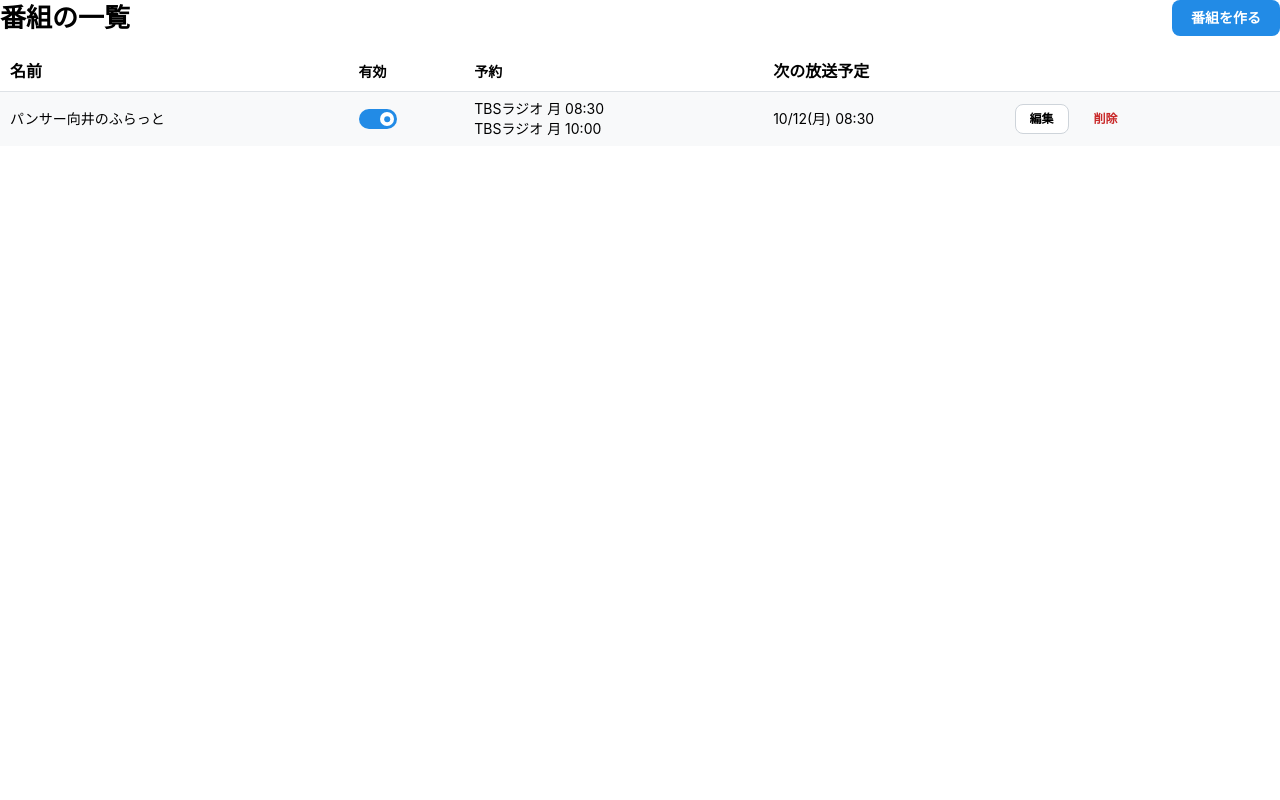
Test: ShowsPage › 確かめて無効にすると、消える件数をトーストで知らせる。0 件ならそう出す
Click the switch named "パンサー向井のふらっと を有効にする" at (378, 119), box [359, 109, 397, 129]
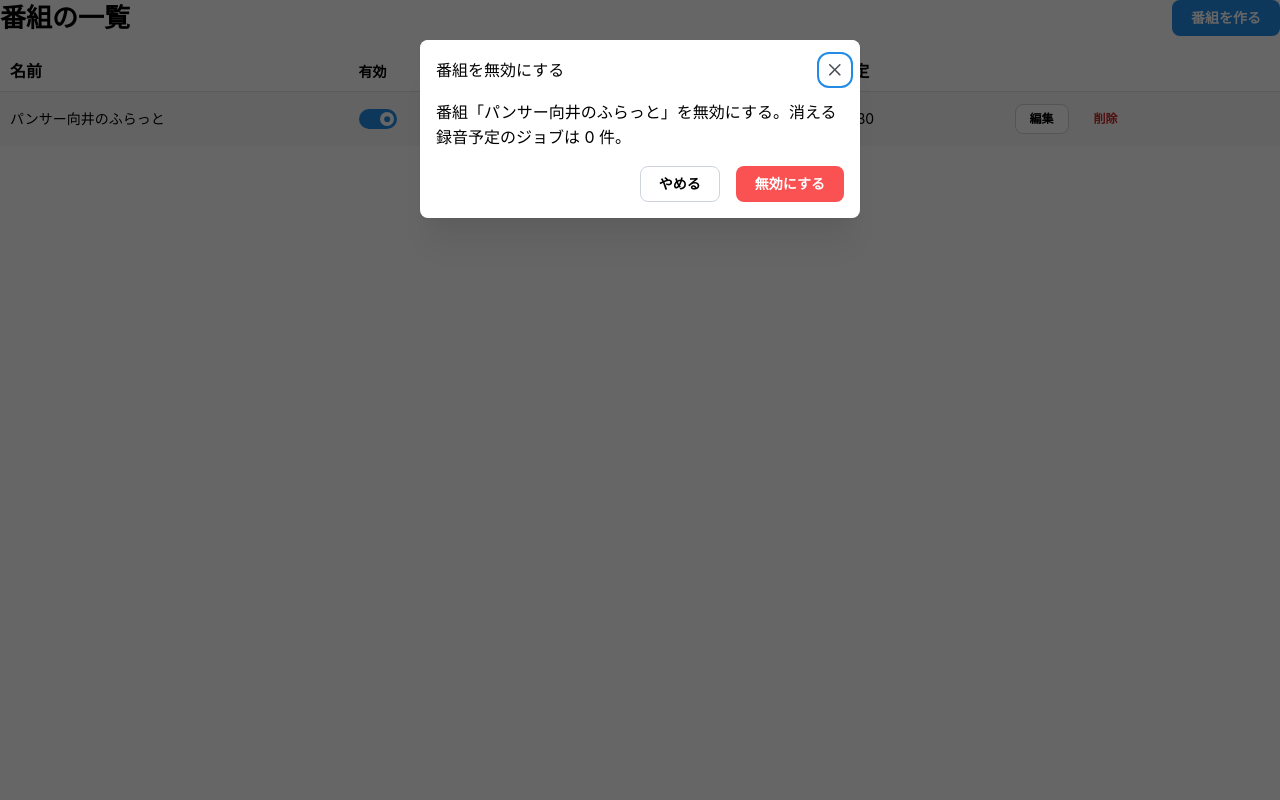
Expected: the dialog shows "消える録音予定のジョブは 0 件", [436, 102, 836, 147]
Click the button "無効にする" at (790, 184), box [736, 166, 844, 202]
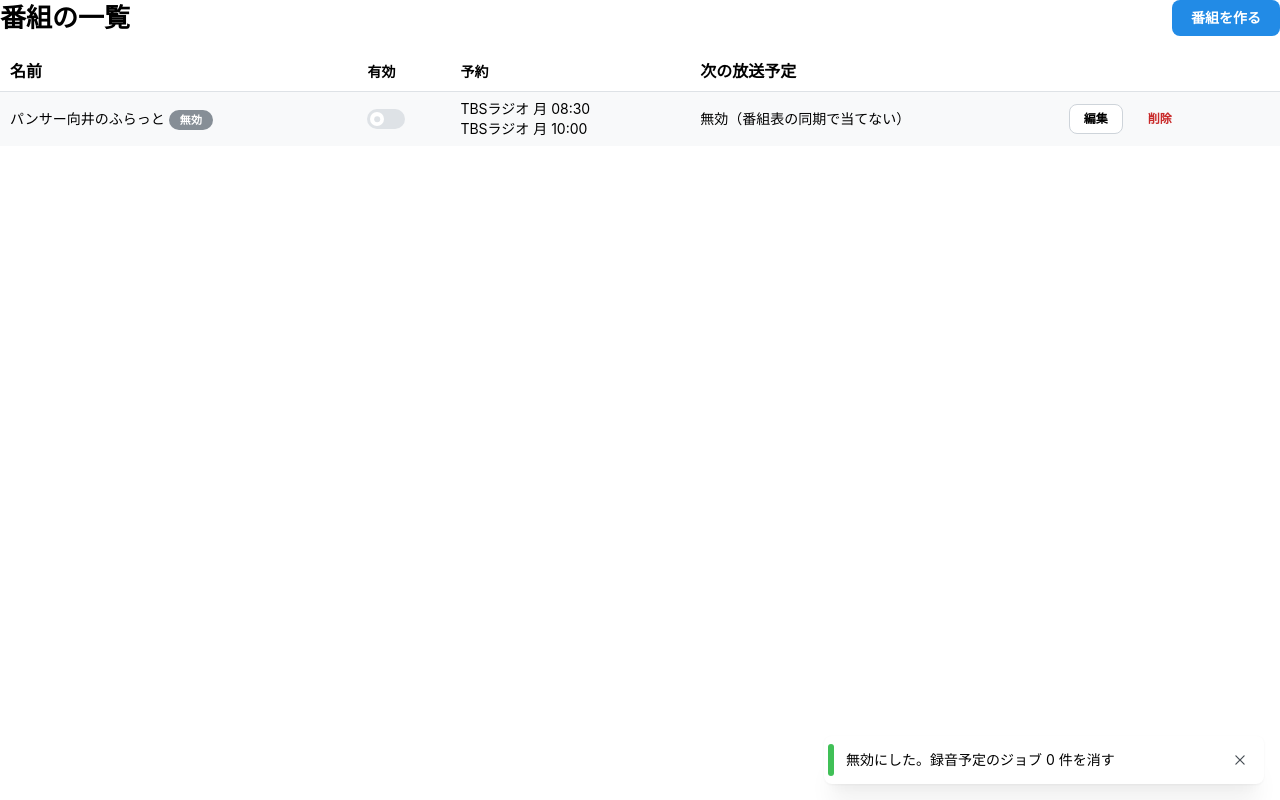
Expected: the switch is not checked, [368, 109, 406, 129]
Expected: the text "無効にした。録音予定のジョブ 0 件を消す" is shown, [846, 751, 1115, 768]
